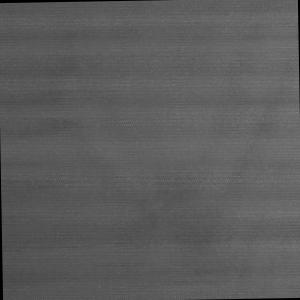Wrinkle: (1, 1, 300, 157)
